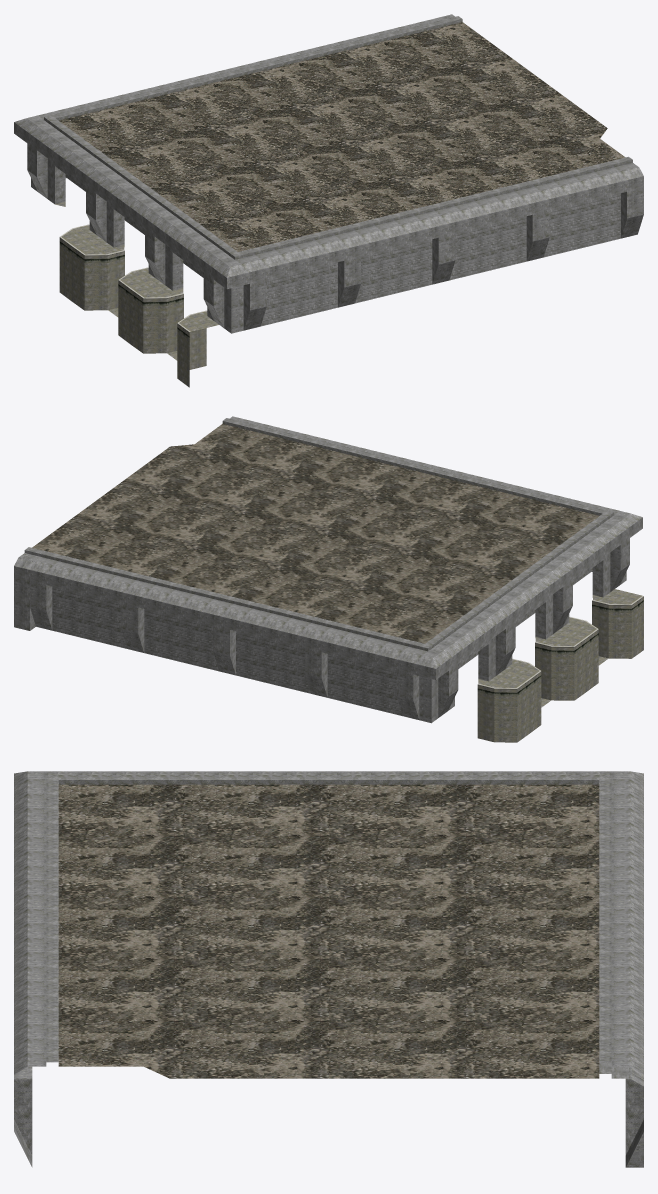
Rendered from subpen_ext_sfse.obj.
3 views of the same model, one above another, from view 1: azimuth 30°, elevation 25°; view 2: azimuth 150°, elevation 25°; view 3: azimuth 270°, elevation 25° (orthographic). The views are drawn at different scales.
Visible parts, largest first — view 1: subpen_ext_SFSe; view 2: subpen_ext_SFSe; view 3: subpen_ext_SFSe.
Part boxes in pixels (x1=…): subpen_ext_SFSe: x1=14, y1=14, x2=643, y2=387; subpen_ext_SFSe: x1=14, y1=416, x2=643, y2=742; subpen_ext_SFSe: x1=14, y1=771, x2=643, y2=1167.
Size of the model in its own units: 159 by 42.5 by 129.
6 materials, 6 textured.
